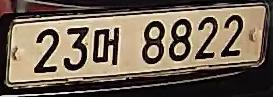2: (31, 26, 61, 75), (219, 12, 245, 60), (195, 14, 219, 62)
3: (61, 25, 91, 72)
8: (139, 18, 168, 65), (166, 16, 194, 63)
머: (91, 24, 123, 69)
